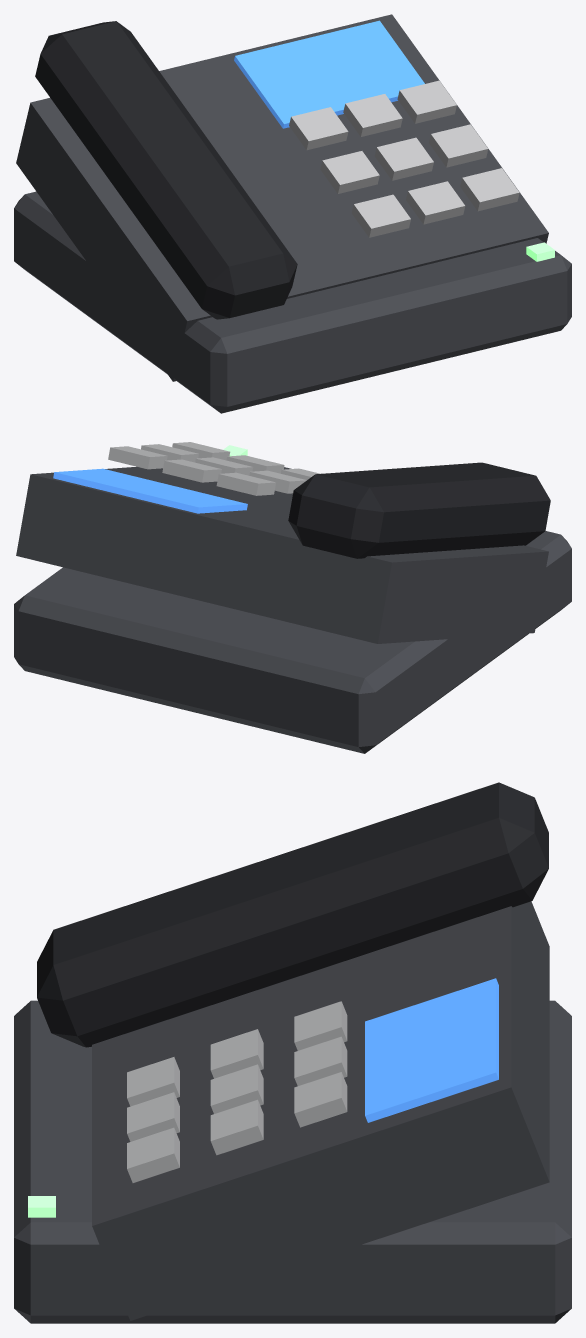
The model's file is ip_phone.glb.
The picture shows the model from 3 angles, top to bottom: view 1: azimuth 30°, elevation 25°; view 2: azimuth 150°, elevation 25°; view 3: azimuth 270°, elevation 25°; orthographic projection. The views are drawn at different scales.
Visible parts, largest first — view 1: ip_phone, ip_phone_screen; view 2: ip_phone, ip_phone_screen; view 3: ip_phone, ip_phone_screen.
Part boxes in pixels (x1=…): ip_phone: x1=14, y1=14, x2=571, y2=413; ip_phone_screen: x1=234, y1=20, x2=424, y2=128; ip_phone: x1=14, y1=442, x2=571, y2=753; ip_phone_screen: x1=53, y1=468, x2=247, y2=513; ip_phone: x1=14, y1=782, x2=571, y2=1323; ip_phone_screen: x1=365, y1=978, x2=498, y2=1122.
Size of the model in its own units: 0.2 by 0.1306 by 0.2.
3 materials, 1 textured.
